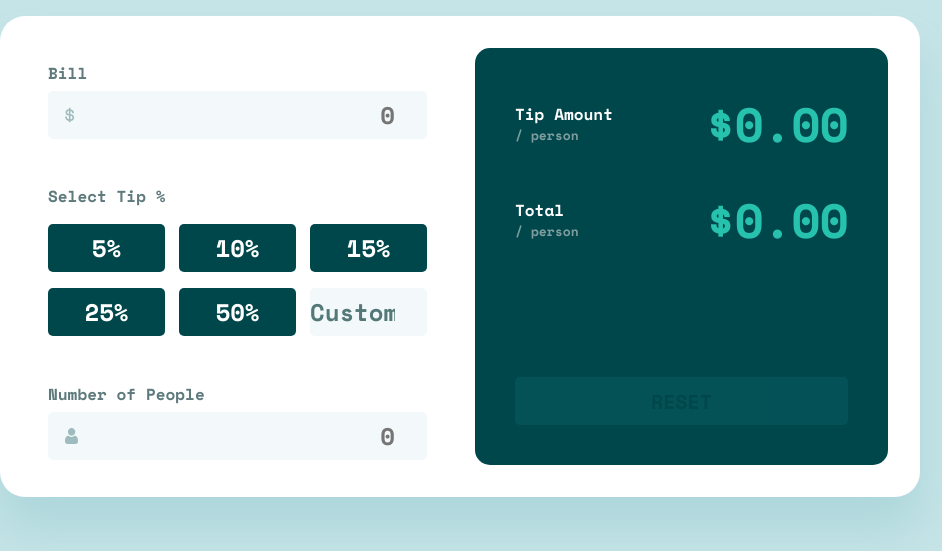
Scenario: Test user interface interactions › should enable reset button when Bill input default value is changed
Type "2" into the number field labelled "Bill". click: (238, 115)
box: [48,91,427,139]
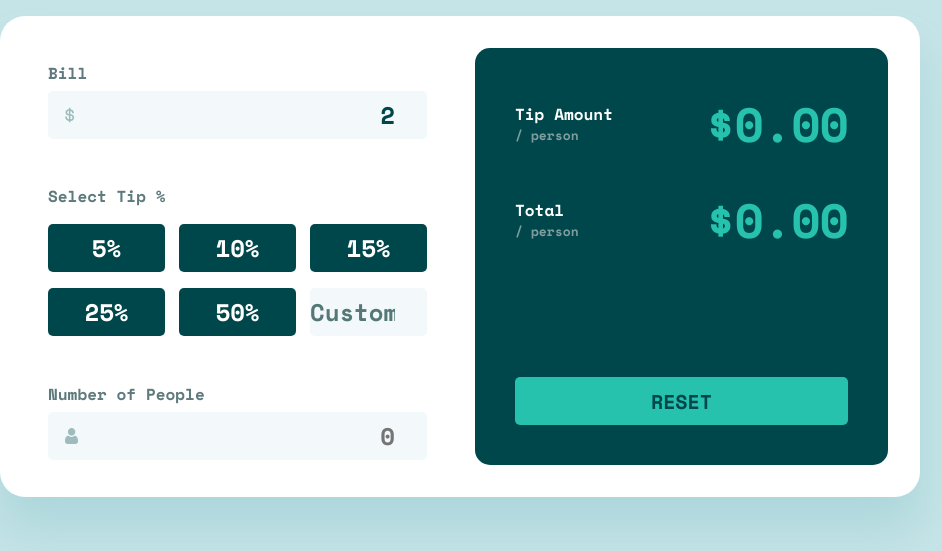
Check: the button "RESET" is enabled, box [515,377,848,425]
